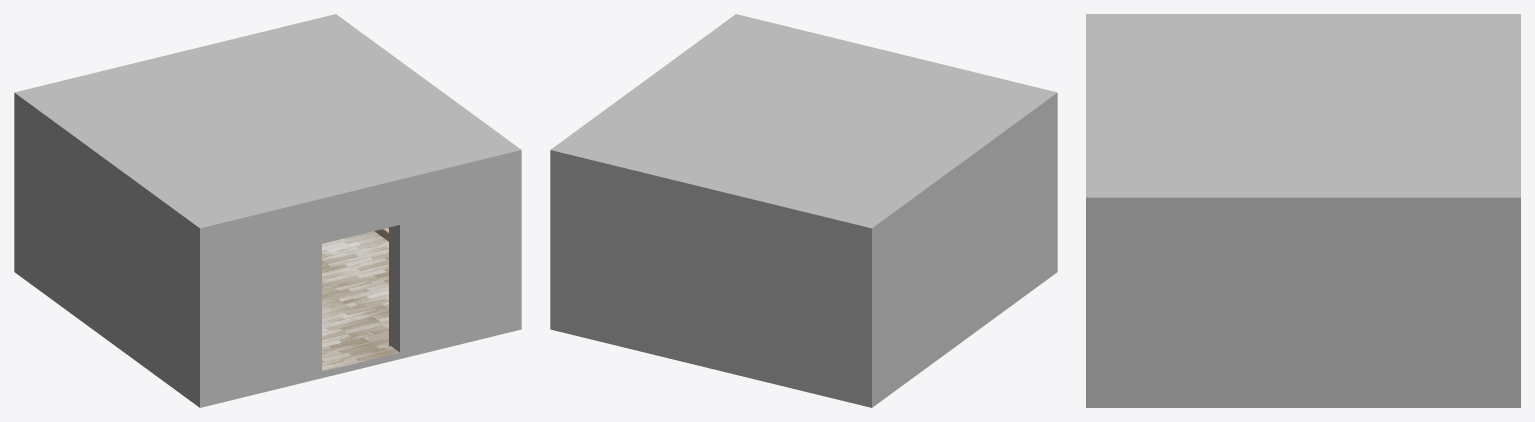
File: room_textured.dae
The picture shows the model from 3 angles, left to right: view 1: azimuth 30°, elevation 25°; view 2: azimuth 150°, elevation 25°; view 3: azimuth 270°, elevation 25°; orthographic projection. The views are drawn at different scales.
Parts seen in each view (by area): view 1: Cube; view 2: Cube; view 3: Cube.
Part boxes in pixels (<box>): Cube: <box>14,14,521,407</box>; Cube: <box>550,14,1057,407</box>; Cube: <box>1086,14,1520,407</box>.
Size of the model in its own units: 236 by 236 by 126.
4 materials, 2 textured.
